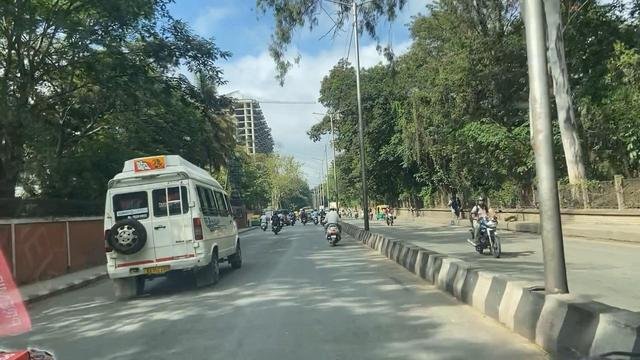HMV: (96, 161, 245, 309)
